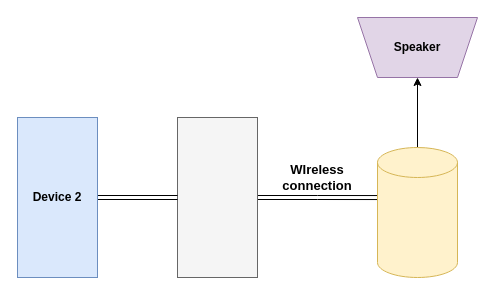
This 495x295 diagram has some shape labels left out. The shapes that lost their labels are listed below. From the top down, each one's box as (x1, y1, x2, y2) in pixels, then its label:
(176, 116, 258, 278): Device 1
(376, 146, 458, 278): FFPLAY SERVER
